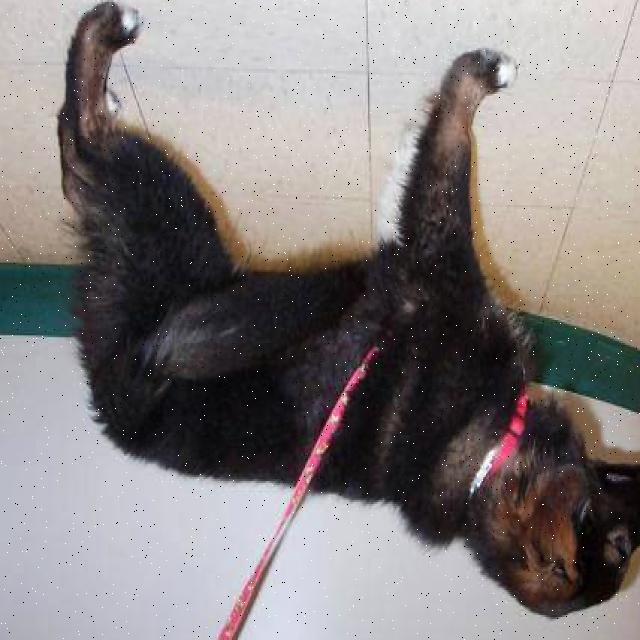Dog: (514, 420, 640, 622)
